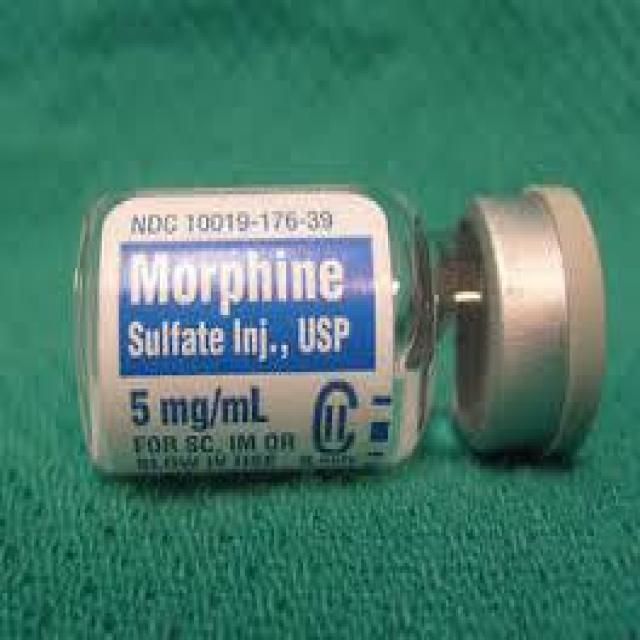B3: (48, 168, 616, 492)
